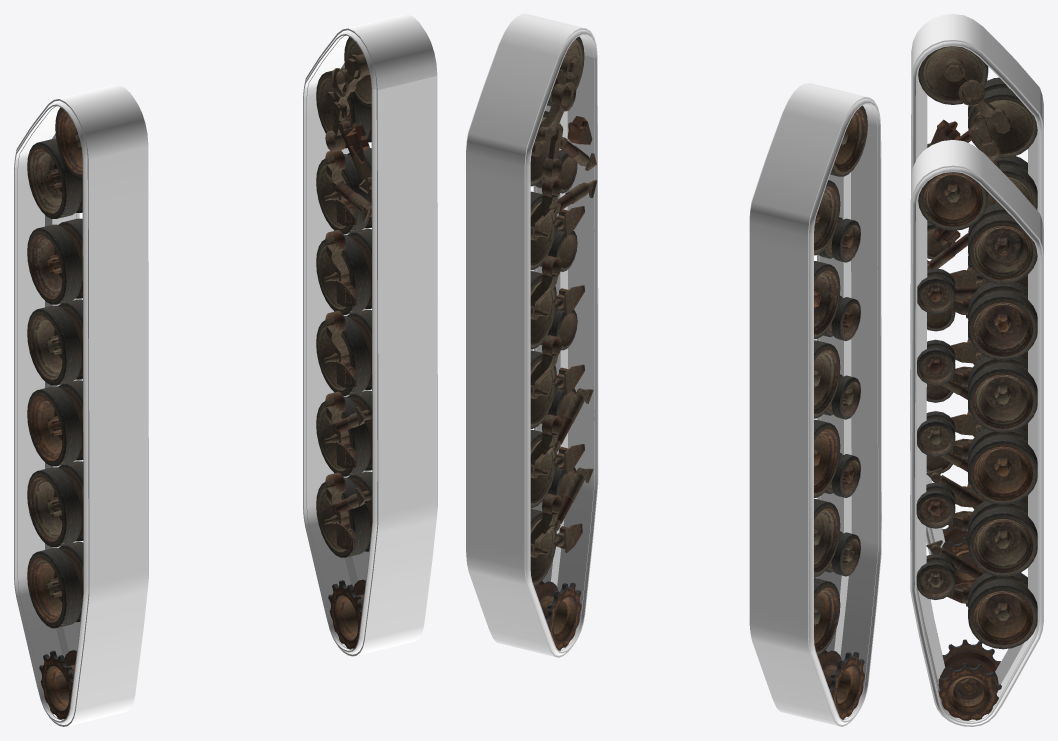
Rendered from Chassis_03.glb.
The picture shows the model from 3 angles, left to right: view 1: azimuth 30°, elevation 25°; view 2: azimuth 150°, elevation 25°; view 3: azimuth 270°, elevation 25°; orthographic projection. The views are drawn at different scales.
Parts seen in each view (by area): view 1: set_0_group_0, set_1_group_0, set_3_group_0, set_2_group_0; view 2: set_0_group_0, set_1_group_0, set_3_group_0, set_2_group_0; view 3: set_3_group_0, set_1_group_0, set_2_group_0, set_0_group_0.
Part boxes in pixels (bbox=[...]): set_0_group_0: bbox=[14, 84, 148, 726]; set_1_group_0: bbox=[303, 14, 437, 656]; set_3_group_0: bbox=[316, 37, 372, 649]; set_2_group_0: bbox=[27, 107, 83, 719]; set_0_group_0: bbox=[749, 83, 881, 726]; set_1_group_0: bbox=[466, 14, 598, 657]; set_3_group_0: bbox=[530, 36, 597, 650]; set_2_group_0: bbox=[814, 105, 867, 719]; set_3_group_0: bbox=[916, 172, 1037, 720]; set_1_group_0: bbox=[910, 140, 1043, 726]; set_2_group_0: bbox=[918, 46, 1037, 584]; set_0_group_0: bbox=[910, 14, 1043, 554].
Size of the model in its own units: 3.42 by 5.81 by 1.26.
Materials: 4 (2 with a texture image).
